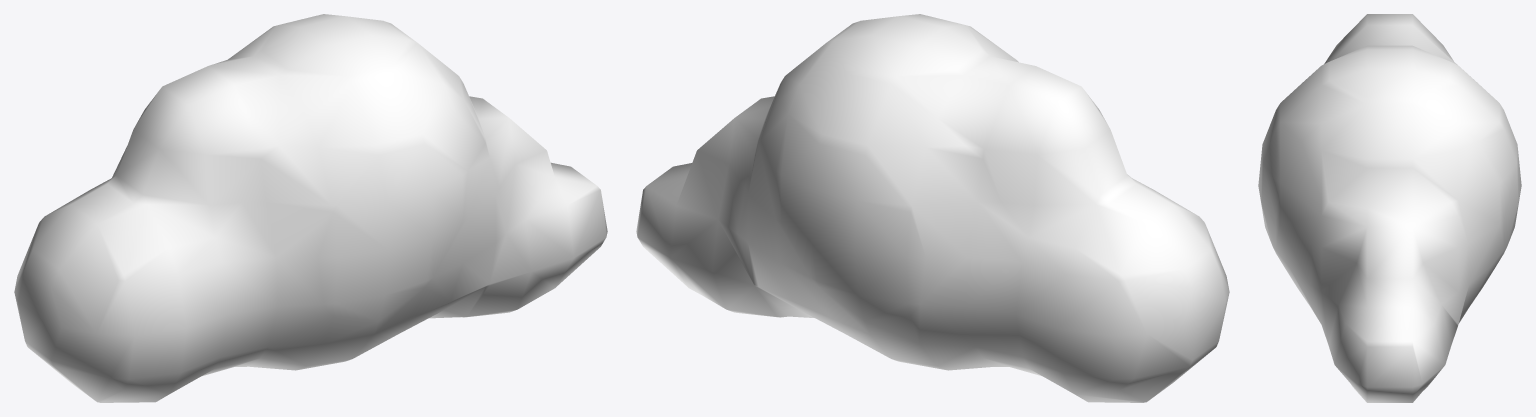
The model's file is cloud.glb.
The picture shows the model from 3 angles, left to right: view 1: azimuth 30°, elevation 25°; view 2: azimuth 150°, elevation 25°; view 3: azimuth 270°, elevation 25°; orthographic projection. The views are drawn at different scales.
Visible parts, largest first — view 1: Mball.008; view 2: Mball.008; view 3: Mball.008.
Part boxes in pixels (x1,y1,x2,y2): Mball.008: [14, 14, 607, 402]; Mball.008: [636, 14, 1229, 402]; Mball.008: [1258, 14, 1521, 402].
Size of the model in its own units: 5.98 by 3.18 by 2.81.
1 material, 1 textured.
